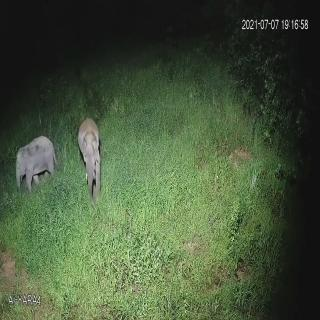Elephant: (12, 132, 62, 197), (76, 113, 108, 209)
